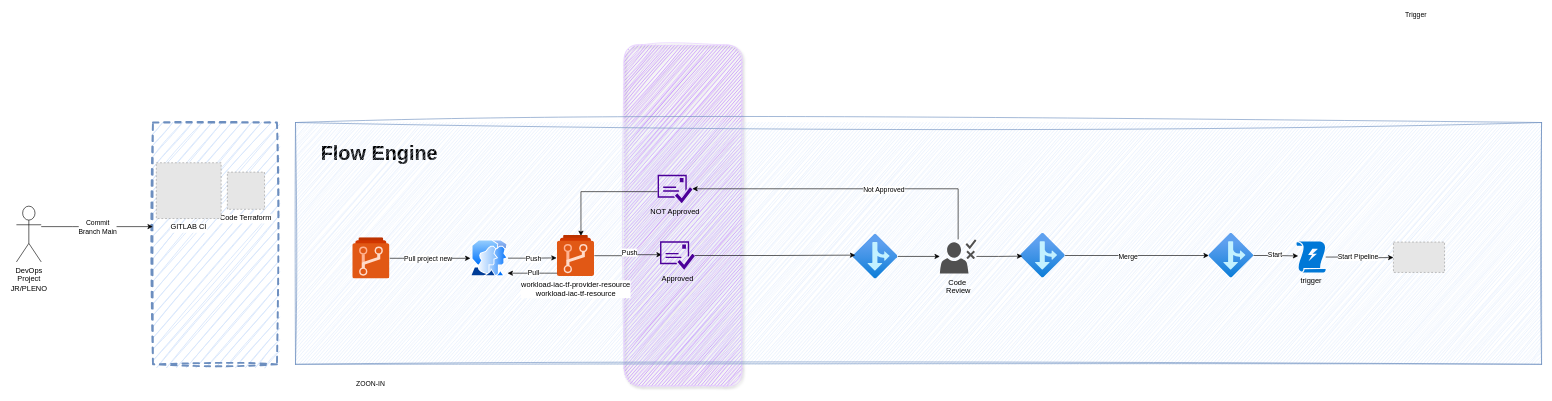
The diagram is 1552 pixels wide and 401 high, and some of its shapes have lost their labels. Grey dashed boxes stand in for pictures. Each missing label, with the centre of its shape:
boilerplate-iac-tf-provider-resource boilerplate-iac-tf-resource: [370,257]
Main: [1231,255]
Release- canditade: [1042,255]
Release/ Feature: [875,256]
